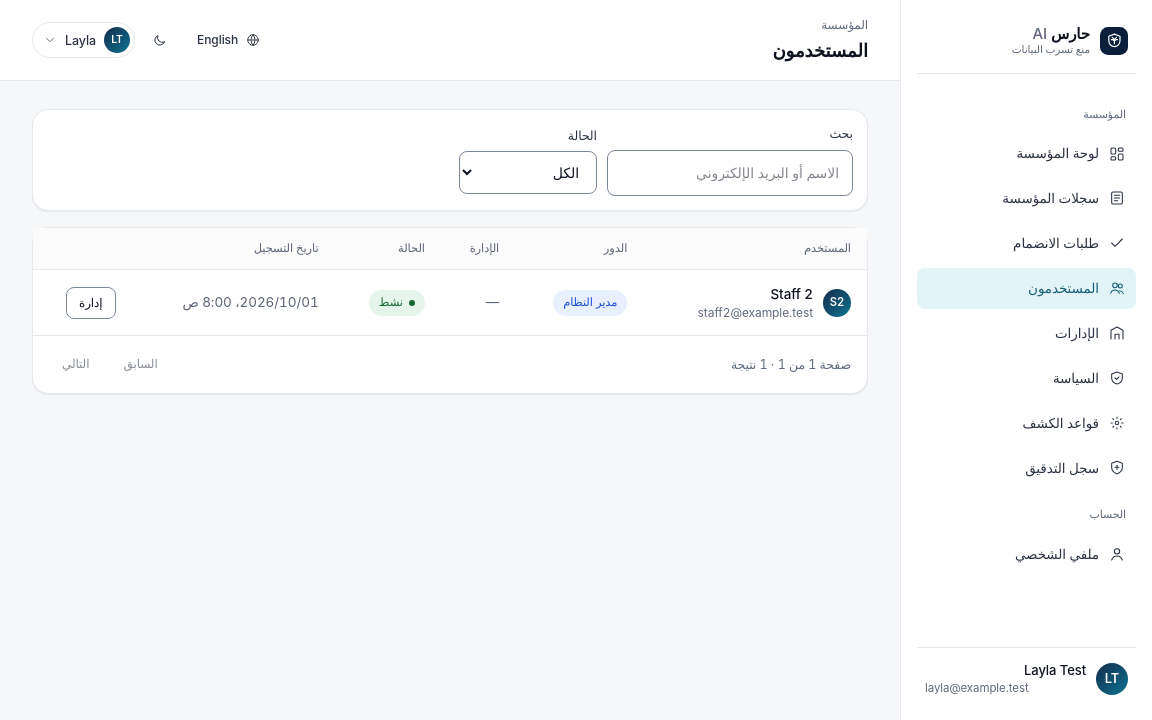
Test: users management › a System Admin offers only revoke (and no deactivate for the signed-in admin)
The image size is (1152, 720).
Click the button "إدارة".
click(91, 303)  # box [66,286,116,319]
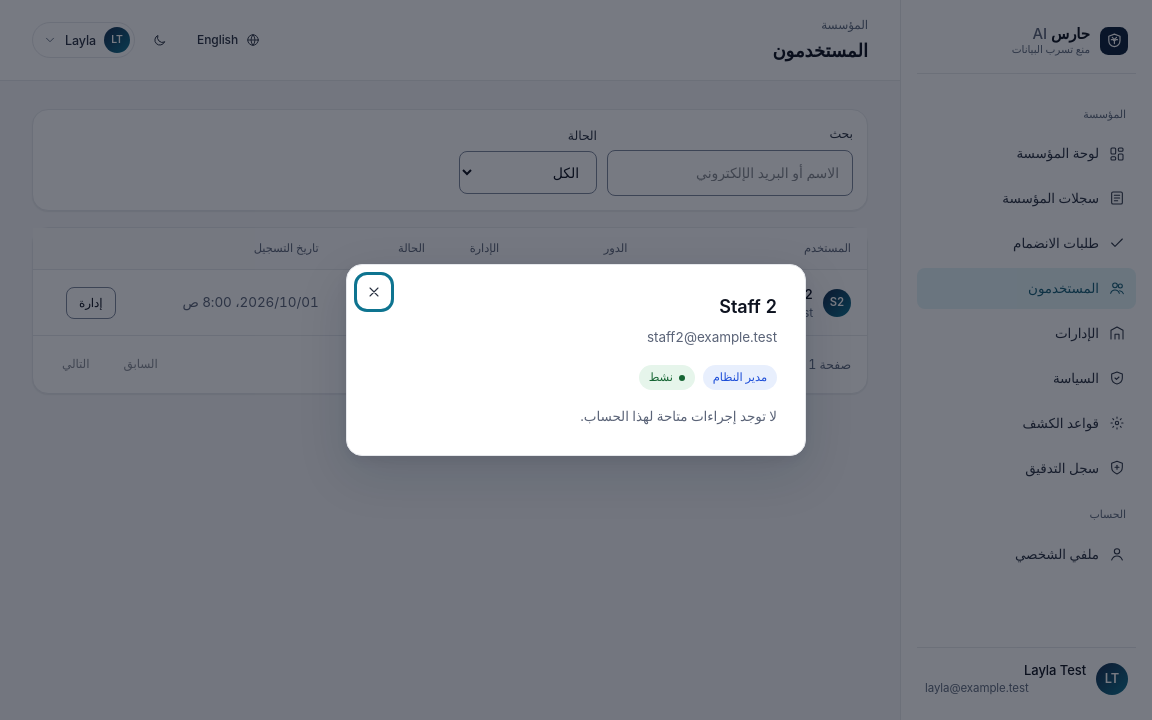
Now the text "لا توجد إجراءات متاحة لهذا الحساب." is shown, box [580,408,777,424]
